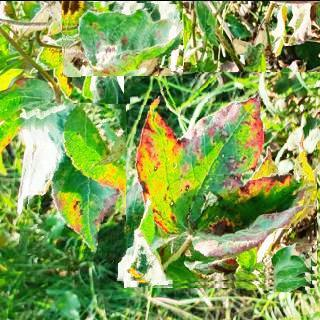blight: (120, 71, 320, 290), (22, 102, 126, 261), (61, 0, 183, 75)
